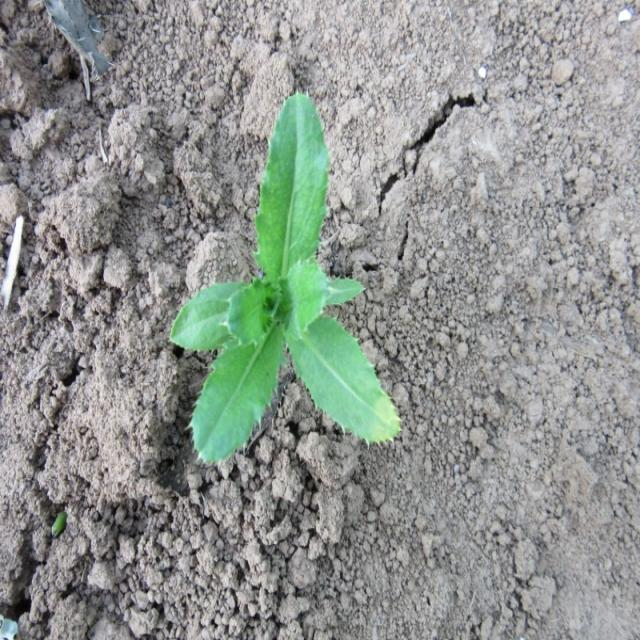cs: (170, 90, 402, 463)
